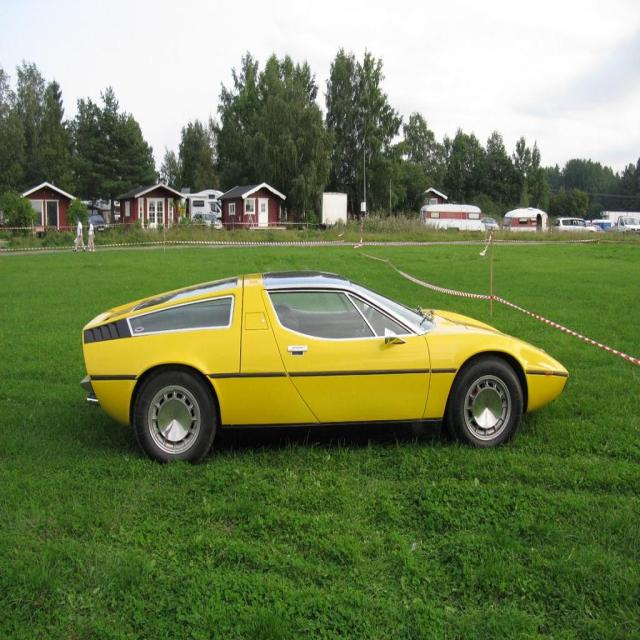car: (58, 265, 558, 463)
